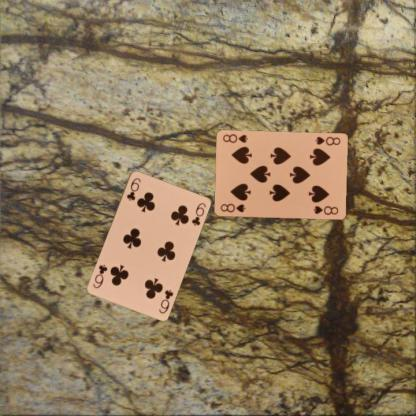6c: (124, 175, 142, 202), (156, 287, 174, 314)
8s: (218, 201, 247, 214), (312, 134, 341, 147)
